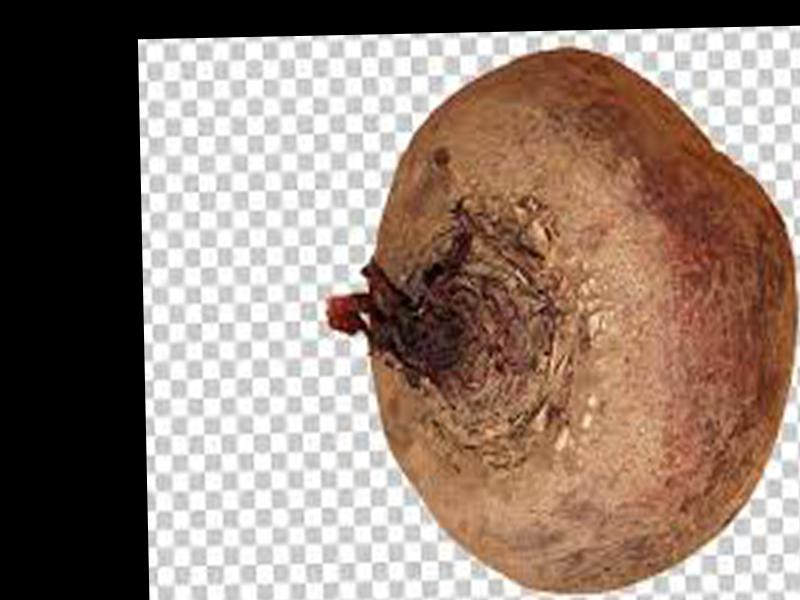Beet: (320, 48, 800, 595)
